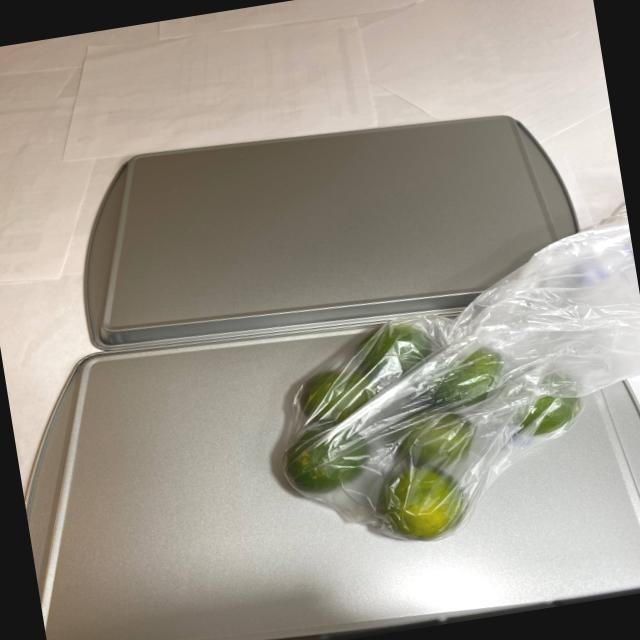lemon: (266, 297, 594, 560)
